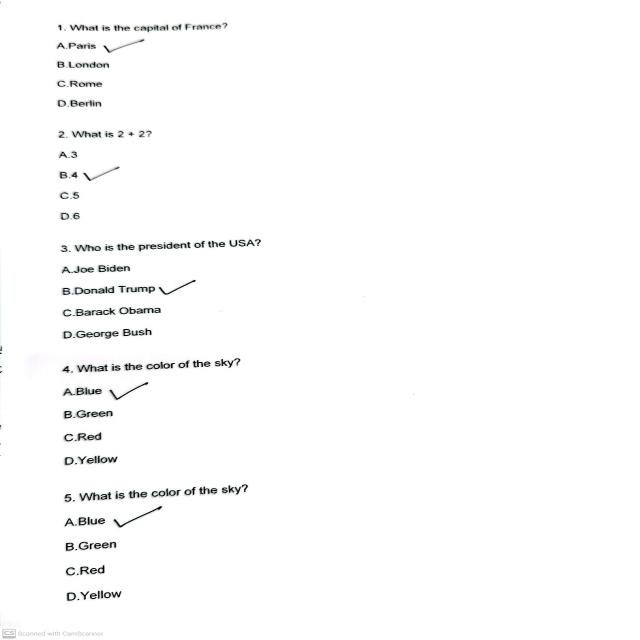Student_Ticked: (103, 503, 173, 530), (100, 378, 162, 404), (156, 275, 204, 300), (97, 37, 157, 56), (81, 164, 127, 185)
